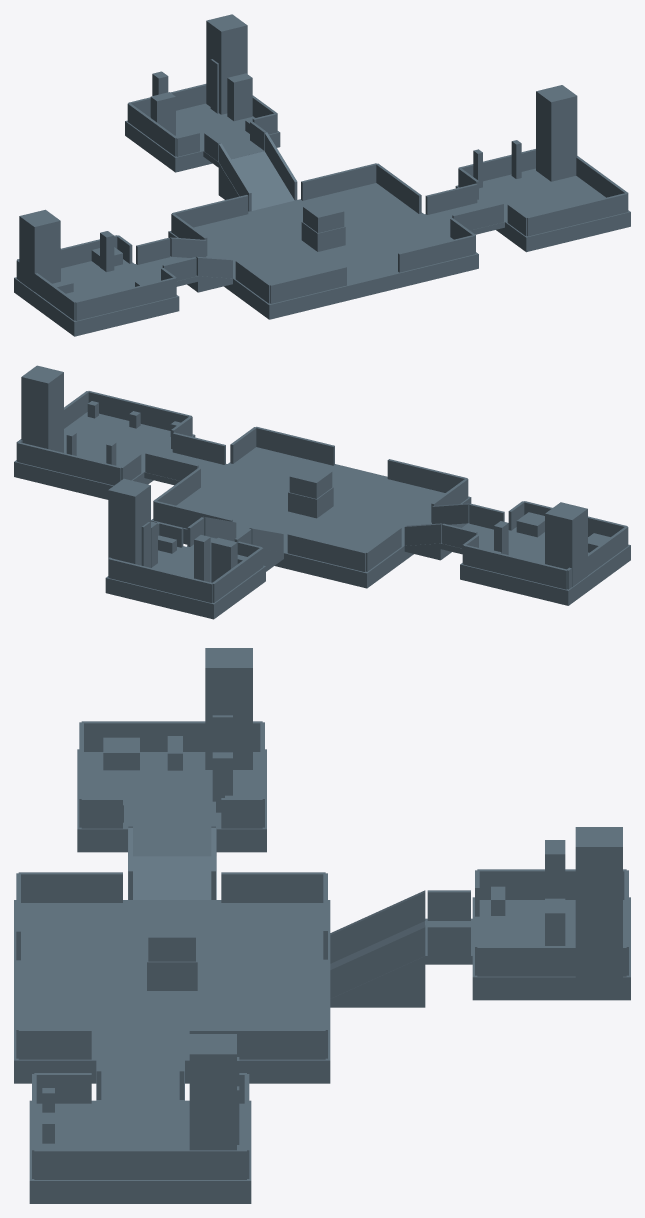
Rendered from echo-district-collision.glb.
3 renders of one model, top to bottom at view 1: azimuth 30°, elevation 25°; view 2: azimuth 150°, elevation 25°; view 3: azimuth 270°, elevation 25°, orthographic. The views are drawn at different scales.
Parts seen in each view (by area): view 1: COL_WALK_PLAZA, COL_MEMORY_02_DOCK, COL_MEMORY_01_GARDEN, COL_MASS_DOCK, COL_MEMORY_03_ARCHIVE, COL_MASS_GARDEN, COL_MASS_ARCHIVE, COL_WALK_ARCHIVE_STAIR_RAMP, COL_RAIL_GARDEN_1, COL_RAIL_DOCK_1, COL_RAIL_PLAZA_SOUTH_R, COL_RAIL_PLAZA_SOUTH_L (+30 smaller); view 2: COL_WALK_PLAZA, COL_MEMORY_02_DOCK, COL_MEMORY_01_GARDEN, COL_MEMORY_03_ARCHIVE, COL_MASS_DOCK, COL_MASS_ARCHIVE, COL_MASS_GARDEN, COL_RAIL_ARCHIVE_2, COL_RAIL_GARDEN_2, COL_RAIL_DOCK_2, COL_RAIL_DOCK_1, COL_RAIL_PLAZA_SOUTH_R (+31 smaller); view 3: COL_WALK_PLAZA, COL_MEMORY_02_DOCK, COL_MEMORY_01_GARDEN, COL_MEMORY_03_ARCHIVE, COL_MASS_ARCHIVE, COL_RAIL_DOCK_0, COL_MASS_DOCK, COL_MASS_GARDEN, COL_WALK_GARDEN_STAIR_RAMP, COL_WALK_ARCHIVE_STAIR_RAMP, COL_BRIDGE_02_DOCK, COL_RAIL_GARDEN_0 (+22 smaller).
Boxes of the visible parts, x1,y1,x2,y2 form: COL_WALK_PLAZA: [168, 183, 478, 319]; COL_MEMORY_02_DOCK: [455, 168, 630, 252]; COL_MEMORY_01_GARDEN: [14, 259, 179, 336]; COL_MASS_DOCK: [536, 85, 577, 181]; COL_MEMORY_03_ARCHIVE: [125, 103, 280, 172]; COL_MASS_GARDEN: [19, 209, 60, 291]; COL_MASS_ARCHIVE: [206, 14, 247, 114]; COL_WALK_ARCHIVE_STAIR_RAMP: [218, 151, 294, 211]; COL_RAIL_GARDEN_1: [75, 277, 176, 320]; COL_RAIL_DOCK_1: [527, 193, 627, 236]; COL_RAIL_PLAZA_SOUTH_R: [398, 235, 475, 272]; COL_RAIL_PLAZA_SOUTH_L: [270, 266, 346, 303]; COL_WALK_PLAZA: [151, 447, 471, 588]; COL_MEMORY_02_DOCK: [14, 412, 195, 499]; COL_MEMORY_01_GARDEN: [460, 527, 630, 605]; COL_MEMORY_03_ARCHIVE: [105, 546, 265, 619]; COL_MASS_DOCK: [21, 365, 63, 452]; COL_MASS_ARCHIVE: [108, 478, 150, 567]; COL_MASS_GARDEN: [545, 502, 587, 586]; COL_RAIL_ARCHIVE_2: [108, 558, 212, 602]; COL_RAIL_GARDEN_2: [463, 544, 567, 589]; COL_RAIL_DOCK_2: [17, 442, 121, 485]; COL_RAIL_DOCK_1: [88, 391, 191, 430]; COL_RAIL_PLAZA_SOUTH_R: [255, 426, 334, 465]; COL_WALK_PLAZA: [14, 900, 330, 1083]; COL_MEMORY_02_DOCK: [29, 1100, 251, 1203]; COL_MEMORY_01_GARDEN: [77, 749, 266, 852]; COL_MEMORY_03_ARCHIVE: [472, 897, 630, 1000]; COL_MASS_ARCHIVE: [575, 827, 622, 980]; COL_RAIL_DOCK_0: [34, 1149, 246, 1179]; COL_MASS_DOCK: [189, 1034, 236, 1150]; COL_MASS_GARDEN: [205, 648, 252, 769]; COL_WALK_GARDEN_STAIR_RAMP: [128, 856, 216, 899]; COL_WALK_ARCHIVE_STAIR_RAMP: [330, 921, 425, 1007]; COL_BRIDGE_02_DOCK: [96, 1060, 184, 1100]; COL_RAIL_GARDEN_0: [81, 721, 262, 751].
Size of the model in its own units: 31 by 6.85 by 19.5.
